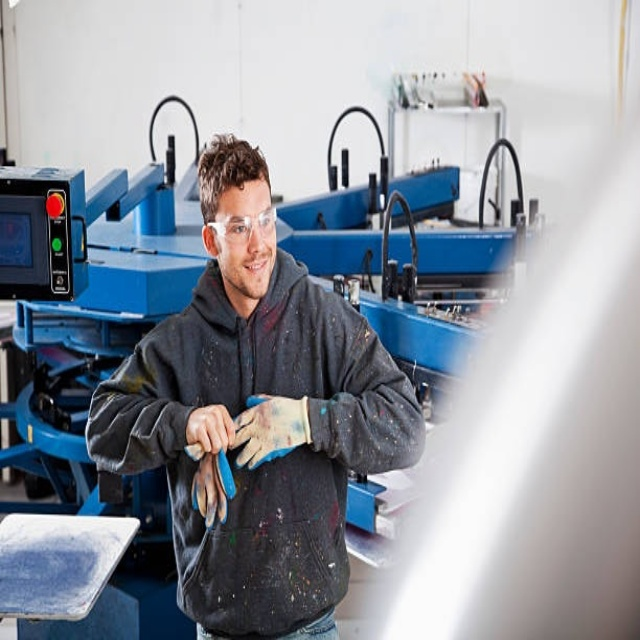Gafas: (208, 208, 277, 244)
Guantes: (232, 386, 315, 475)
Sin_guantes: (182, 401, 238, 463)
Sin_mascara: (237, 251, 273, 285)
